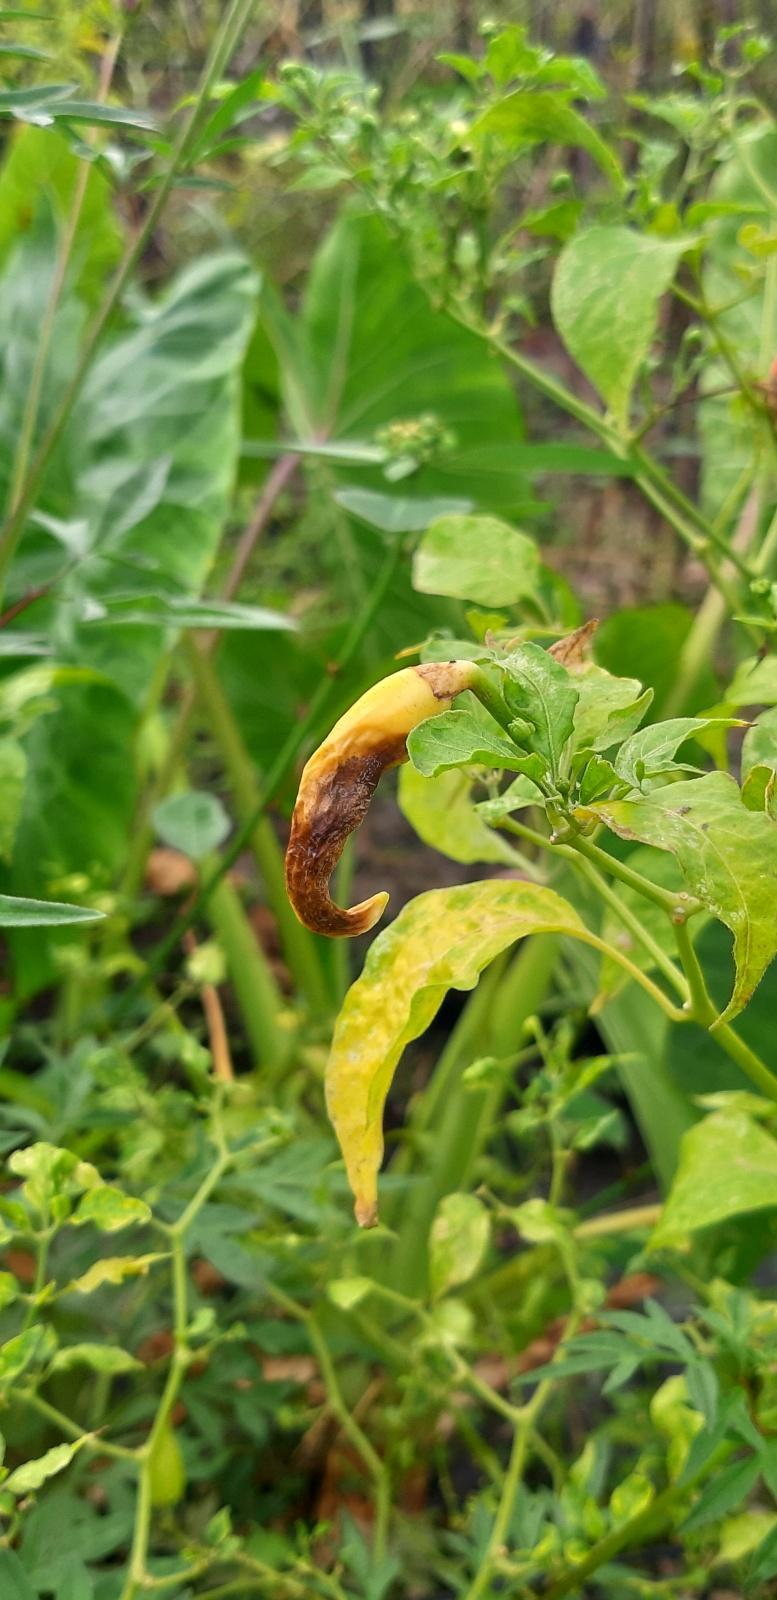antraknosa: (282, 656, 468, 943)
